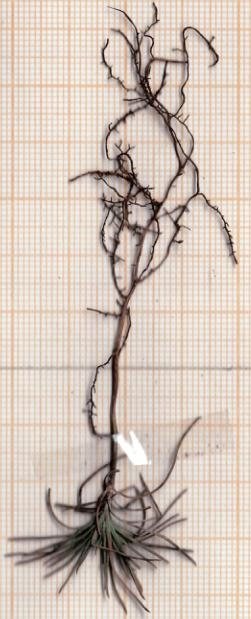flower: (0, 460, 243, 618)
root: (61, 0, 250, 323)
stem: (103, 315, 136, 465)
